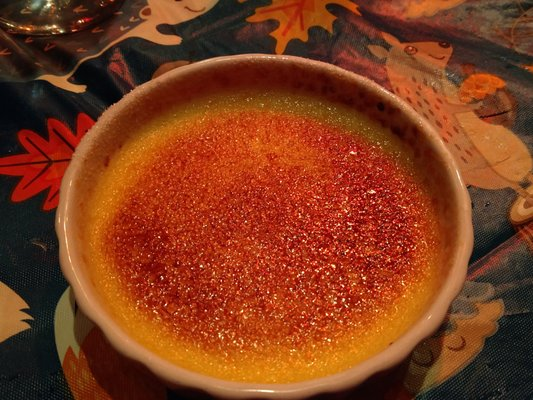sushi: (73, 54, 471, 397)
